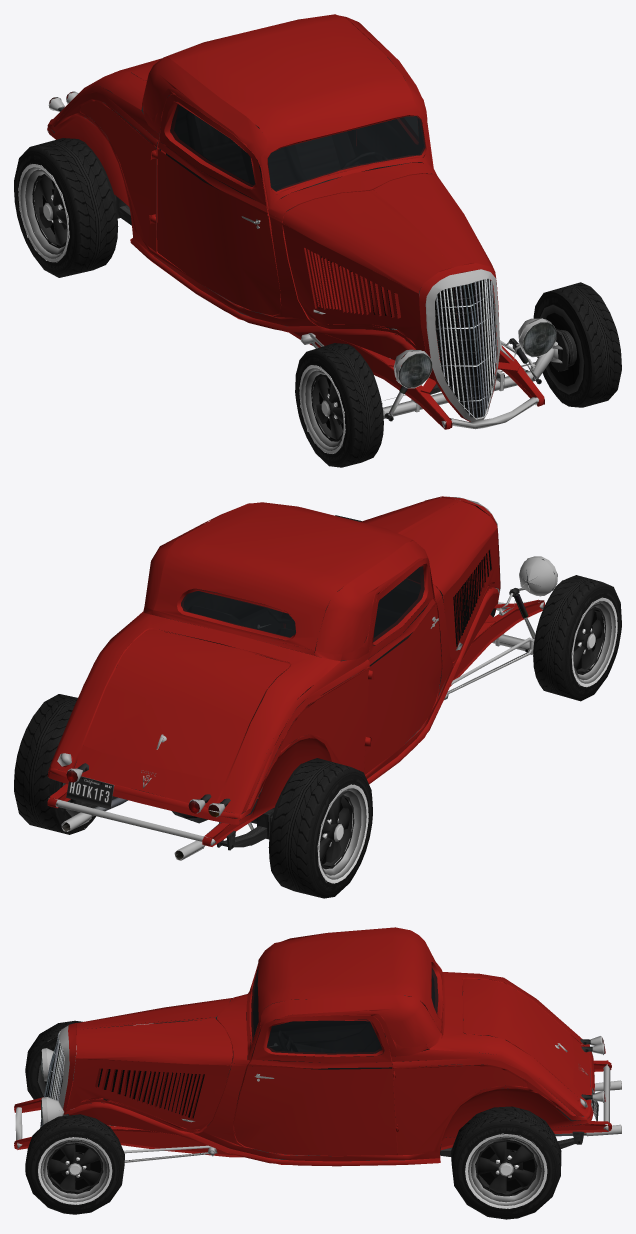
Rendered from coupe-33-hotrod.glb.
3 views of the same model, one above another, from view 1: azimuth 30°, elevation 25°; view 2: azimuth 150°, elevation 25°; view 3: azimuth 270°, elevation 25° (orthographic). The views are drawn at different scales.
Parts seen in each view (by area): view 1: HOTROD_33_WheelCustom_FL_RB1c_Tire_1k_0; view 2: HOTROD_33_WheelCustom_FL_RB1c_Tire_1k_0; view 3: HOTROD_33_WheelCustom_FL_RB1c_Tire_1k_0.
Boxes of the visible parts, bbox=[...] form: HOTROD_33_WheelCustom_FL_RB1c_Tire_1k_0: bbox=[14, 14, 621, 467]; HOTROD_33_WheelCustom_FL_RB1c_Tire_1k_0: bbox=[14, 496, 621, 898]; HOTROD_33_WheelCustom_FL_RB1c_Tire_1k_0: bbox=[14, 927, 621, 1219].
Size of the model in its own units: 2.09 by 1.68 by 4.5.
8 materials, 7 textured.
